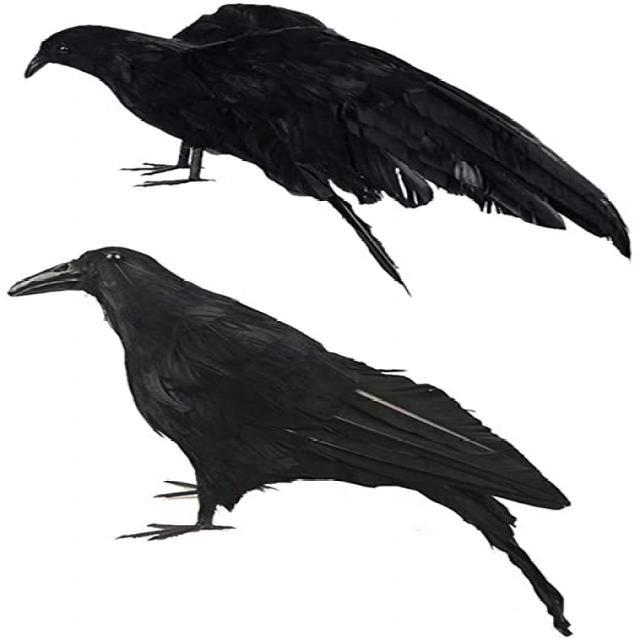crow: (0, 229, 592, 636), (16, 1, 640, 300)
